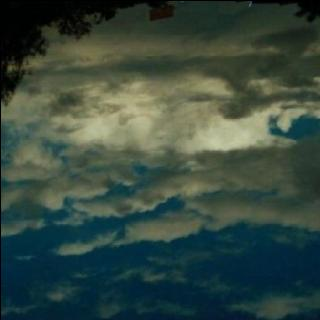Stratocumulus: (5, 41, 320, 320)
